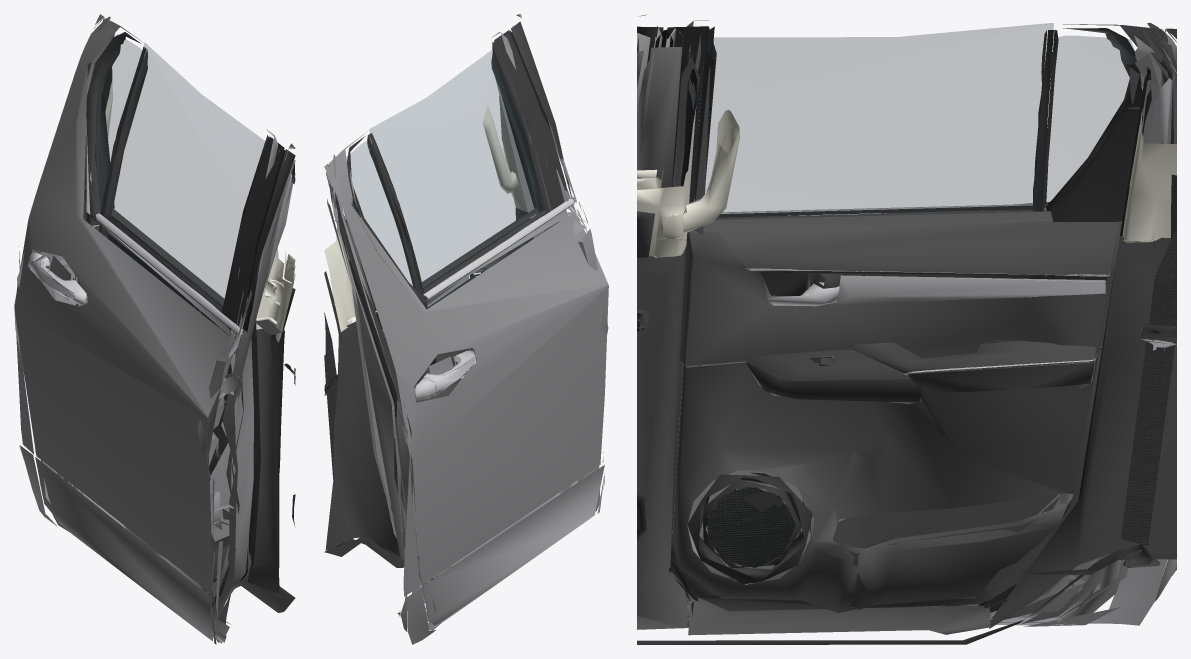
Rendered from hilux_doorRR.glb.
3 renders of one model, left to right at view 1: azimuth 30°, elevation 25°; view 2: azimuth 150°, elevation 25°; view 3: azimuth 270°, elevation 25°, orthographic. The views are drawn at different scales.
Visible parts, largest first — view 1: hilux_doorRR; view 2: hilux_doorRR; view 3: hilux_doorRR.
Part boxes in pixels (box(x1,y1,x2,y2)): hilux_doorRR: box(14, 14, 295, 644); hilux_doorRR: box(324, 14, 608, 644); hilux_doorRR: box(637, 14, 1176, 644).
Bounding box in the file's own units: 0.2411 × 1.17 × 0.866.
17 materials, 4 textured.
